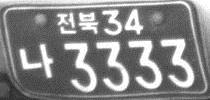3: (158, 37, 195, 89), (94, 40, 130, 93), (127, 39, 163, 91), (62, 41, 97, 93), (101, 9, 122, 36)
4: (123, 7, 143, 36)
나: (18, 42, 55, 79)
전북_O: (56, 11, 99, 35)
